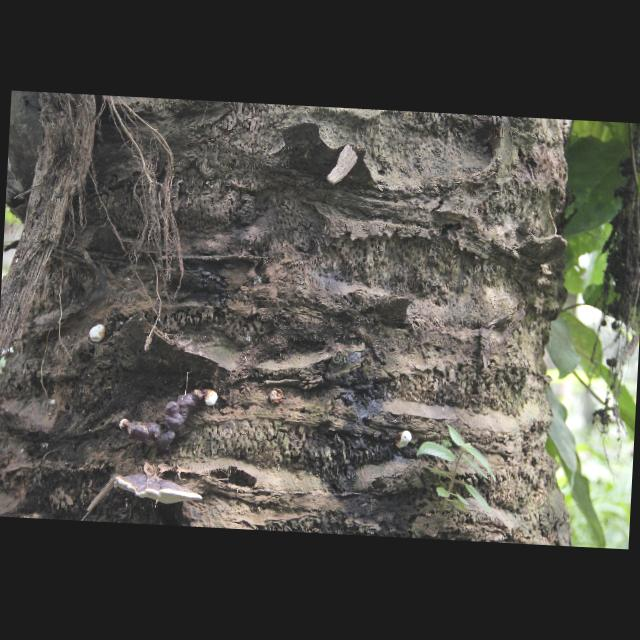ganoderma: (129, 387, 204, 457), (114, 472, 205, 508)
primordium: (395, 431, 413, 451), (89, 325, 107, 344), (204, 390, 220, 409), (119, 420, 129, 432)
